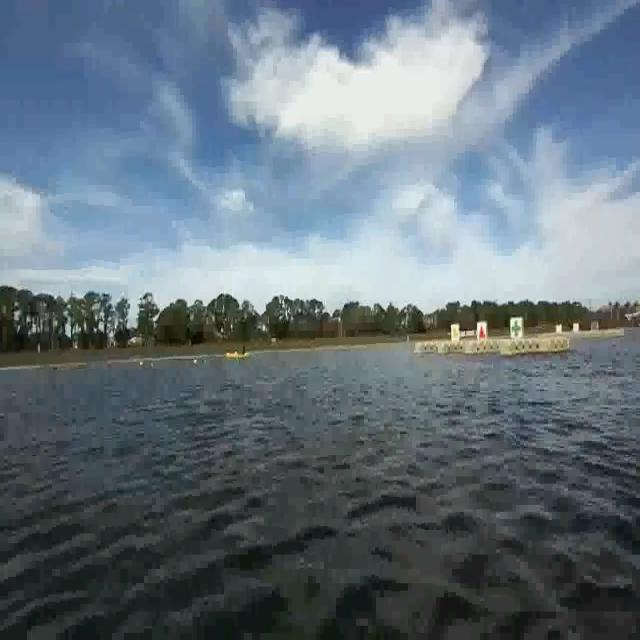blue-cross: (512, 318, 520, 339)
red-dot: (477, 322, 488, 342)
yellow-duck: (452, 323, 460, 344)
